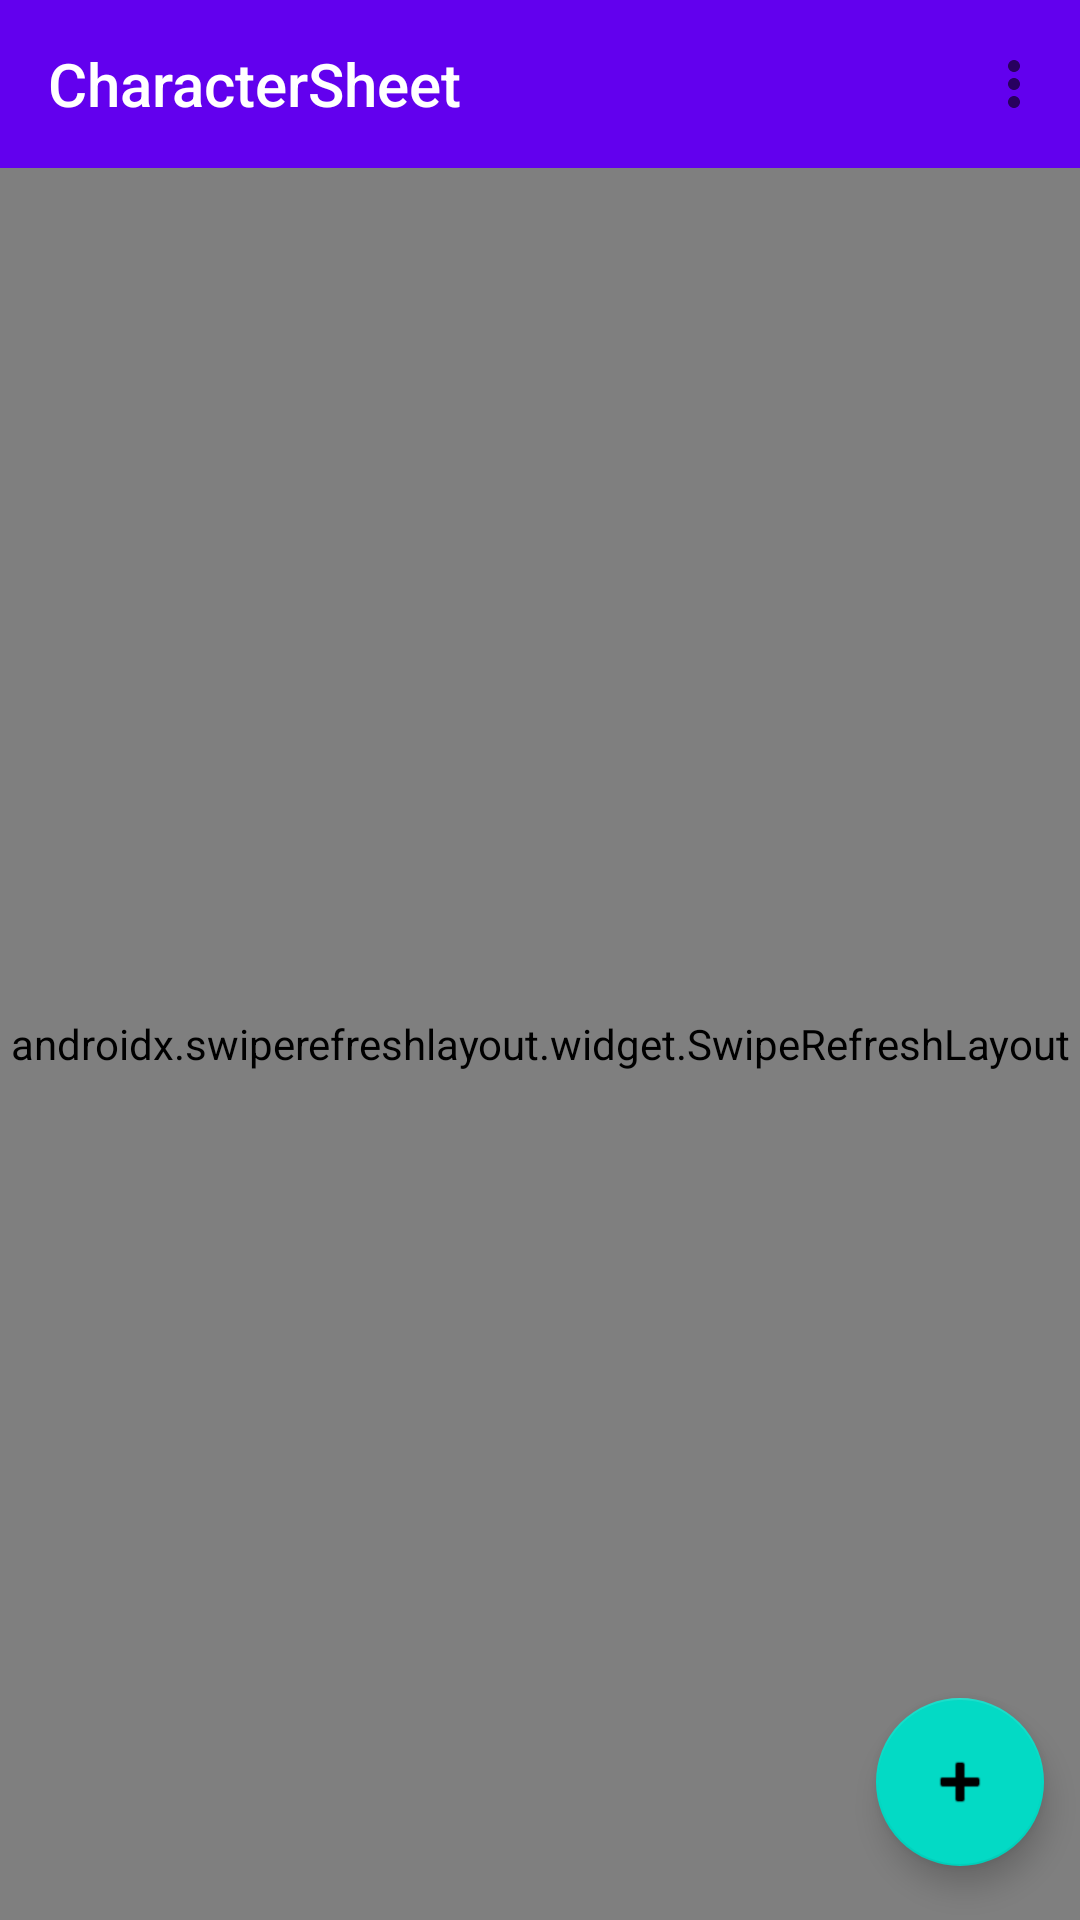

Point at icon controls on the screen. Image size 1080 × 1920, points as point (x, y).
add: point (960, 1782)
